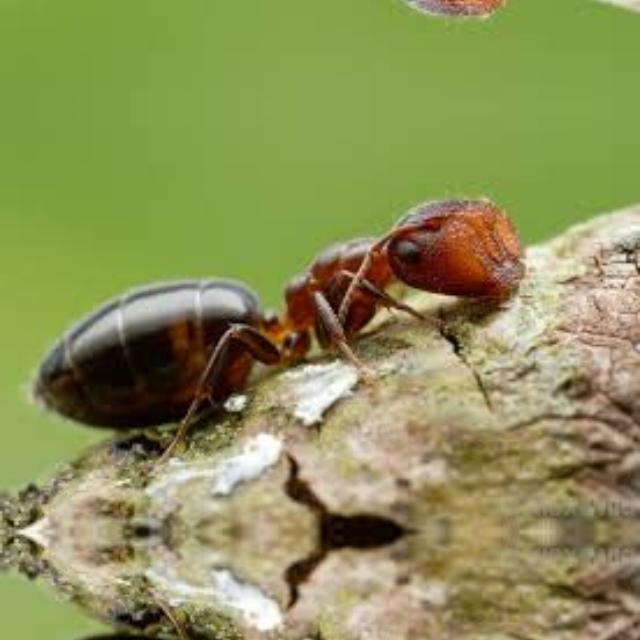Colobopsis: (0, 166, 562, 462)
